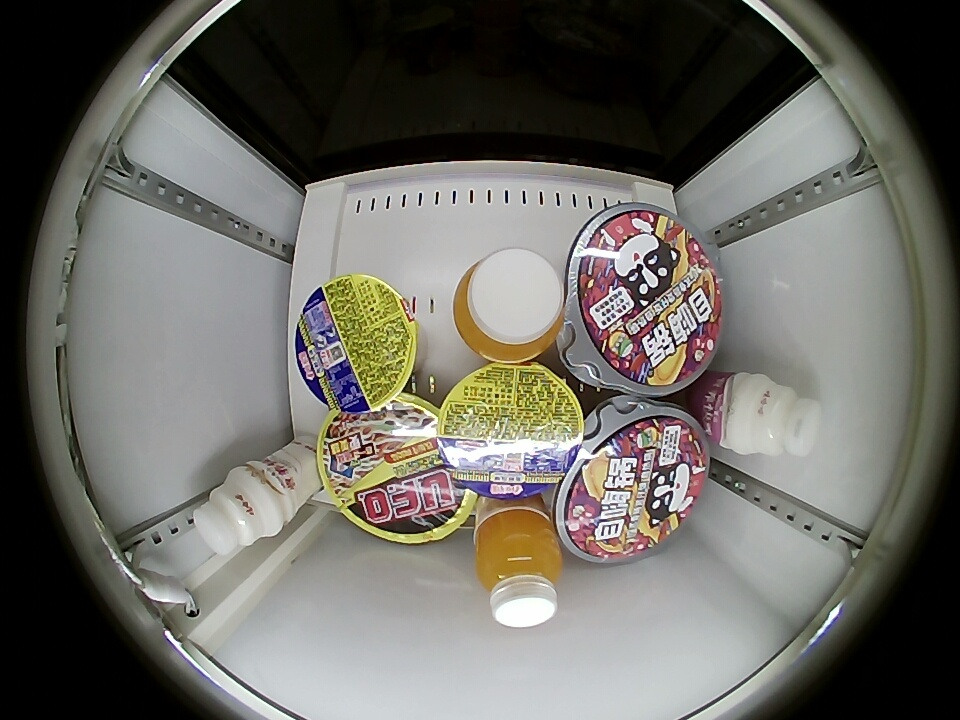heweidao: (436, 361, 584, 499), (296, 273, 418, 413)
ufo: (316, 393, 477, 545)
weic: (453, 248, 565, 362), (473, 507, 564, 628)
yingyangkuaixian: (193, 466, 282, 555), (732, 374, 823, 458)
zihaiguo: (574, 209, 721, 389), (565, 415, 707, 558)
